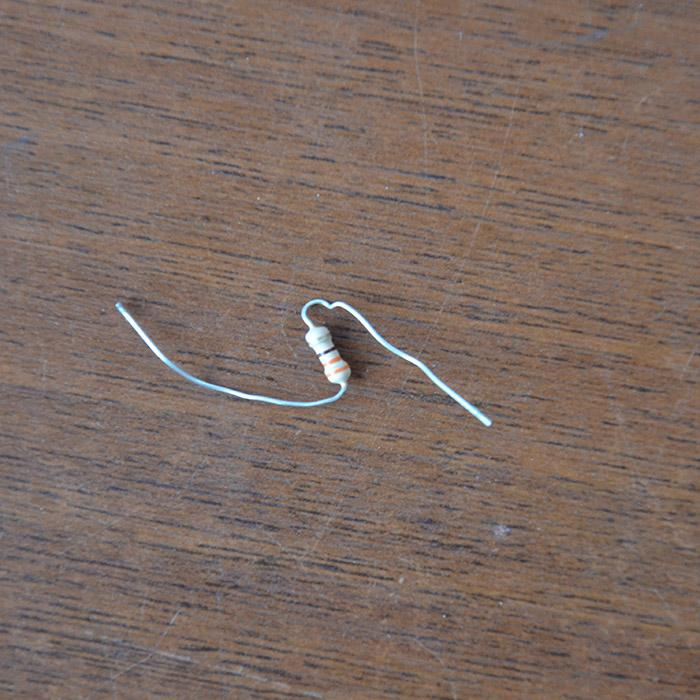resistor: (305, 323, 351, 386)
